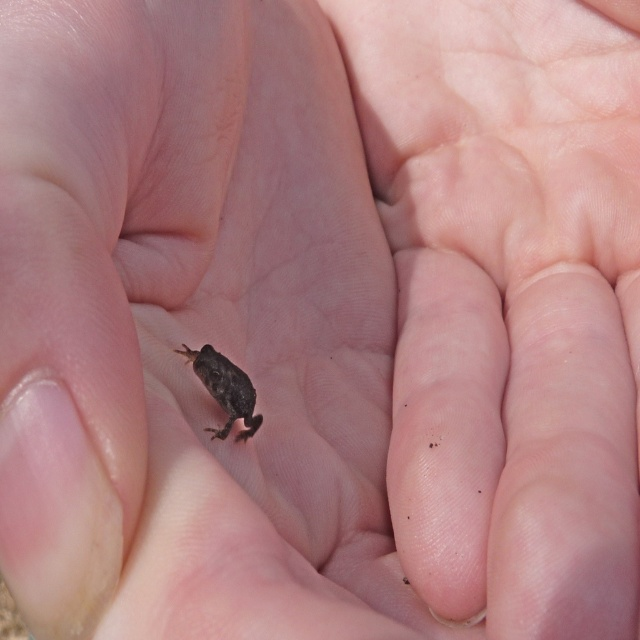Frog: (171, 342, 263, 445)
